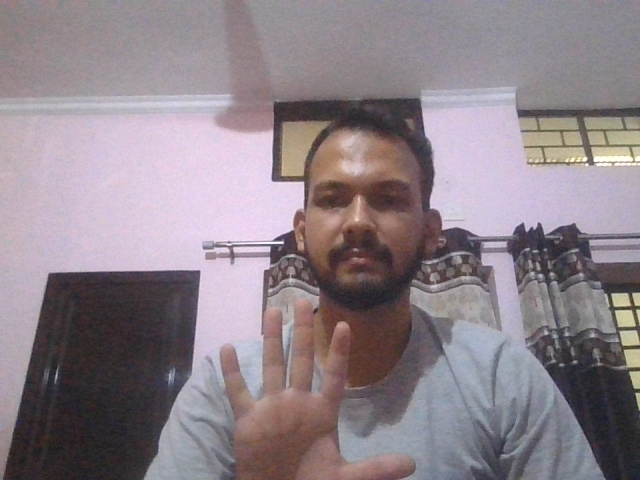hello: (219, 301, 417, 480)
